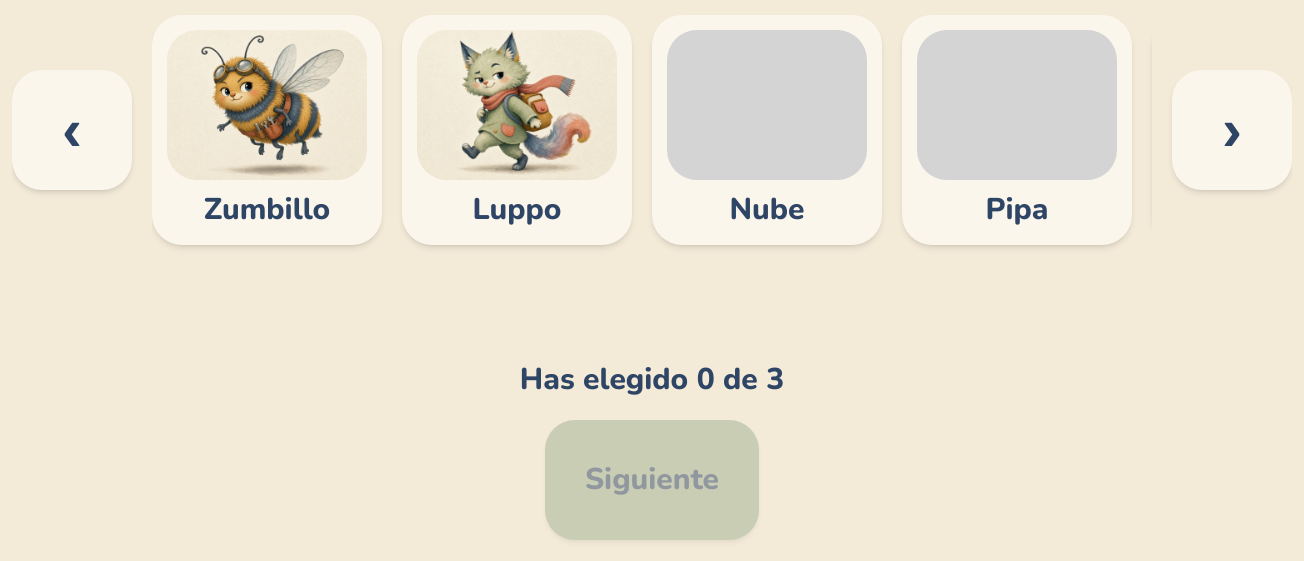
Test: CarruselPersonajes › ignora el cuarto personaje
The width and height of the screenshot is (1304, 561).
Click the button "Zumbillo". click: [267, 130]
box: x1=152 y1=15 x2=382 y2=245
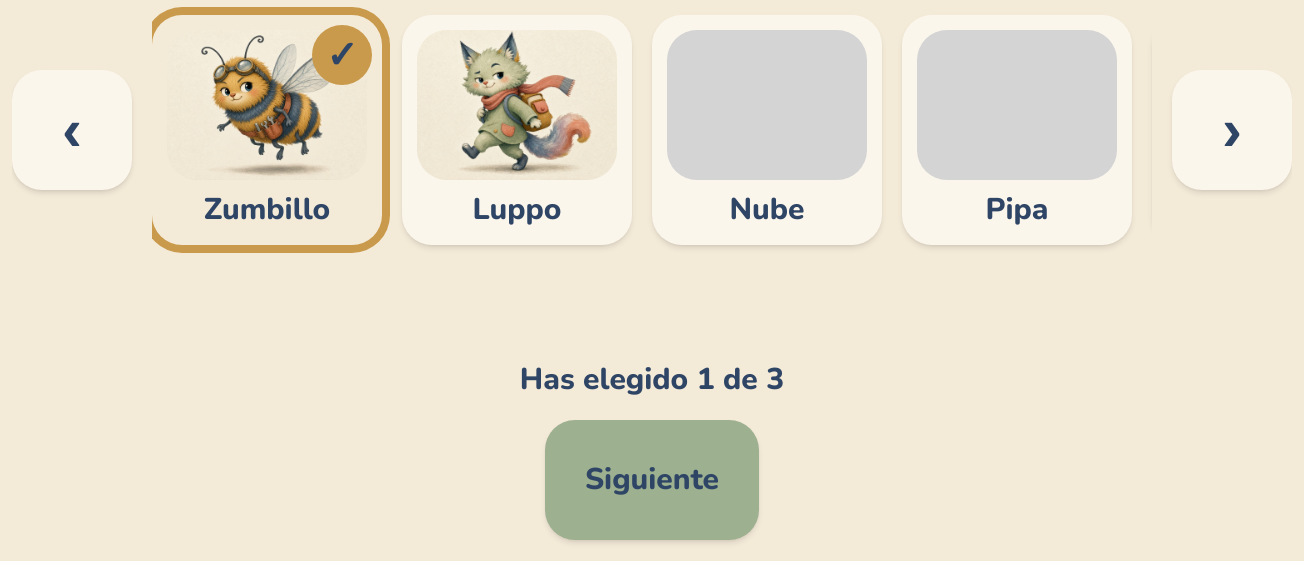
Click the button "Luppo". click: [517, 130]
box: x1=402 y1=15 x2=632 y2=245
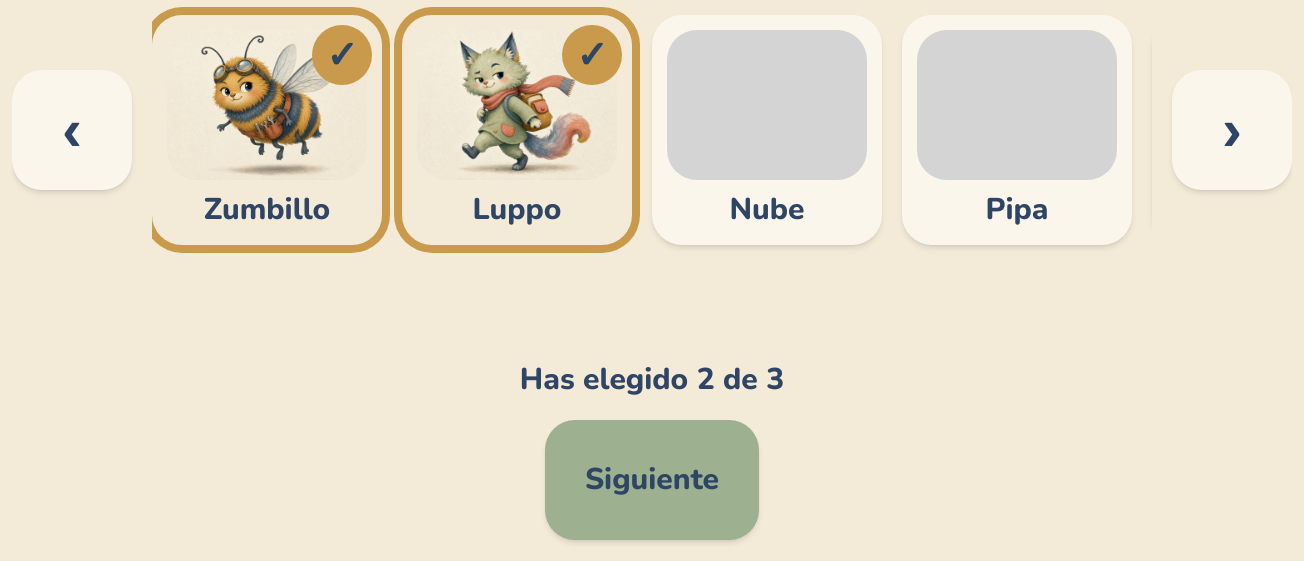
Click the button "Nube". click: [767, 130]
box: x1=652 y1=15 x2=882 y2=245
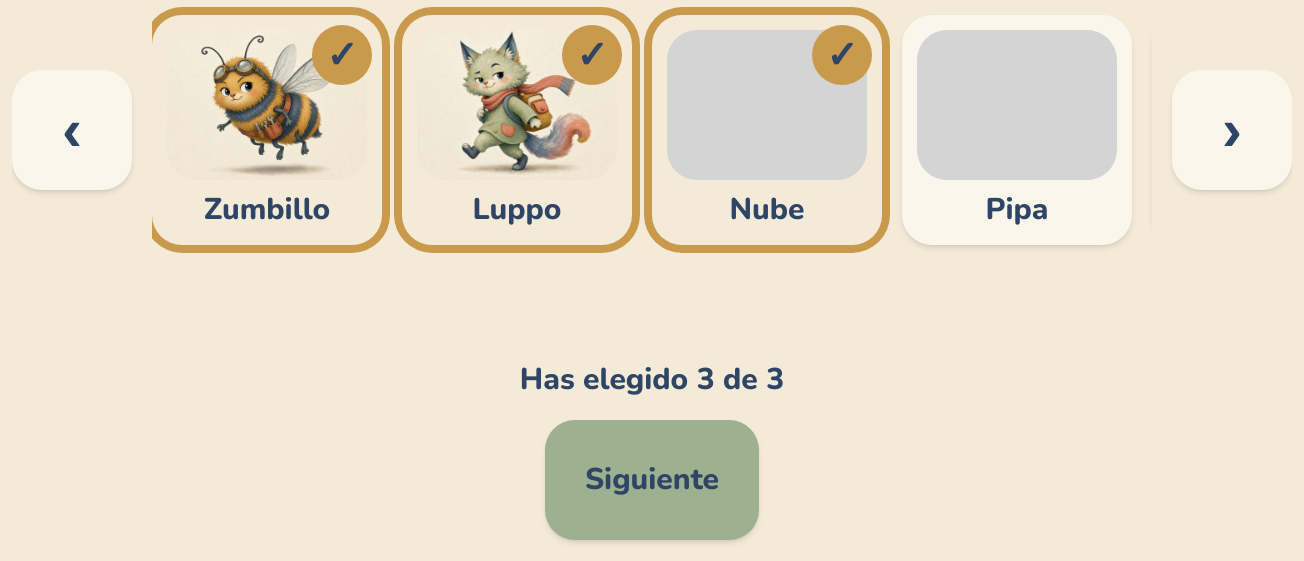
Click the button "Pipa". click: [1017, 130]
box: x1=902 y1=15 x2=1132 y2=245
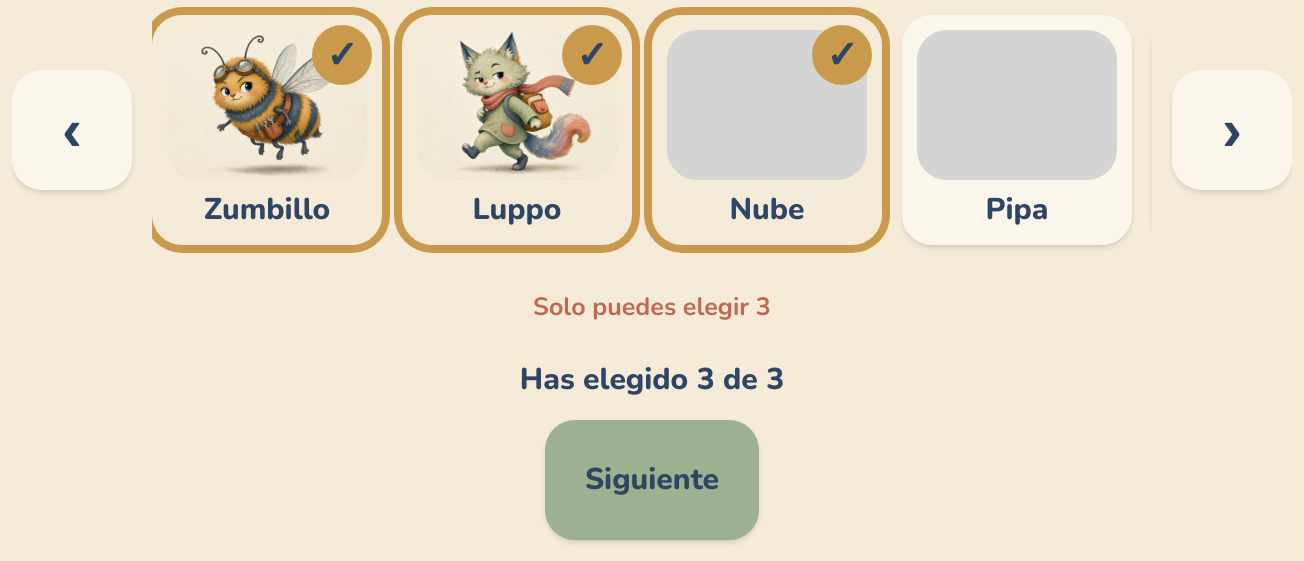
Now the text "Has elegido 3 de 3" is shown, box x1=520 y1=360 x2=784 y2=400
Now the message reads "Solo puedes elegir 3", box x1=533 y1=290 x2=771 y2=324
